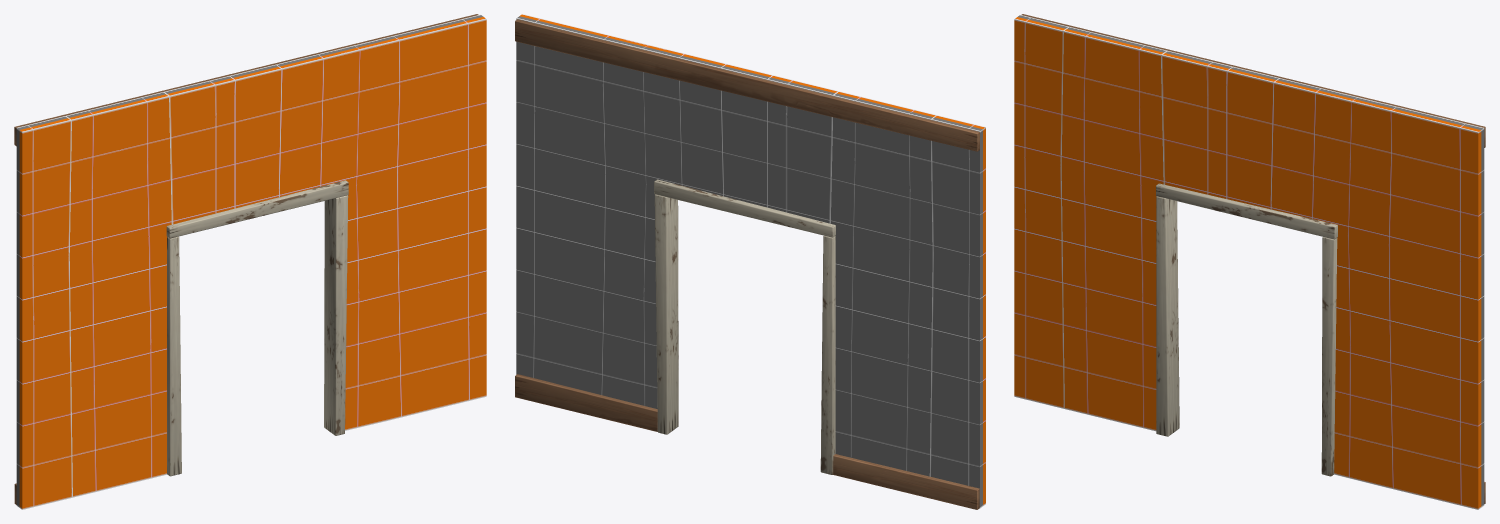
Rendered from Hangar01WD_1.FBX.
3 renders of one model, left to right at view 1: azimuth 30°, elevation 25°; view 2: azimuth 150°, elevation 25°; view 3: azimuth 330°, elevation 25°, orthographic.
Visible parts, largest first — view 1: Hangar01WD_1; view 2: Hangar01WD_1; view 3: Hangar01WD_1.
Part boxes in pixels (<box>): Hangar01WD_1: <box>14,14,486,509</box>; Hangar01WD_1: <box>515,14,985,509</box>; Hangar01WD_1: <box>1014,14,1485,509</box>.
Size of what is drawn, in the model's own units: 4.5 by 3.5 by 0.2.
